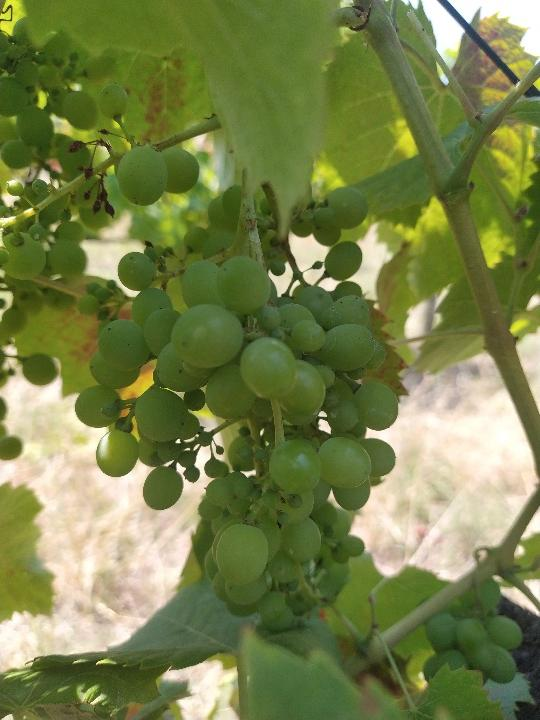grape: (72, 80, 405, 638)
